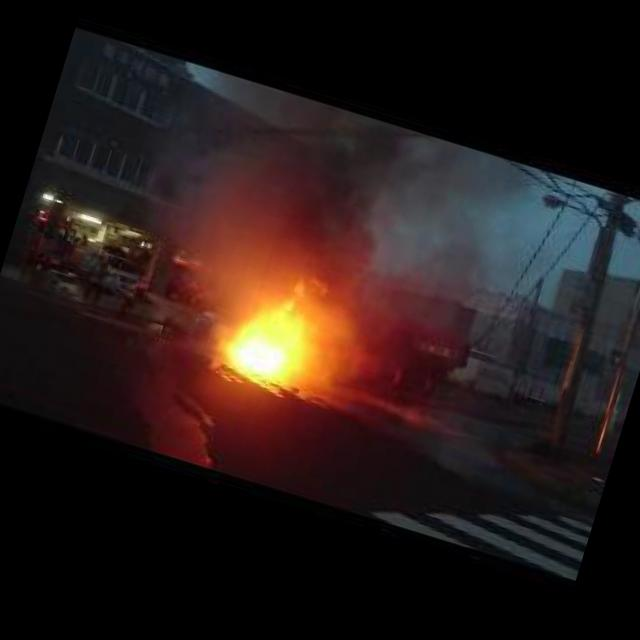fire: (212, 286, 324, 388)
smoke: (164, 65, 552, 351)
